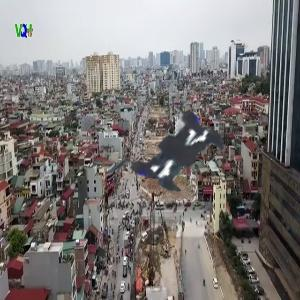drone: (61, 36, 285, 260)
